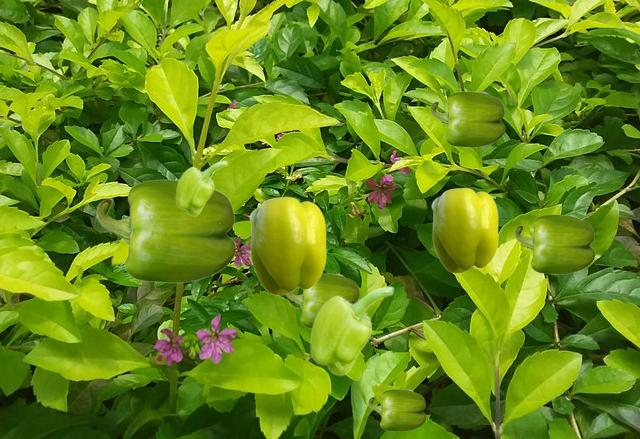bell_pepper: (96, 179, 235, 282), (309, 285, 394, 375), (249, 196, 325, 294), (431, 187, 497, 272), (514, 214, 594, 273), (285, 273, 359, 328), (430, 91, 504, 146), (175, 160, 227, 215), (368, 389, 425, 430)
